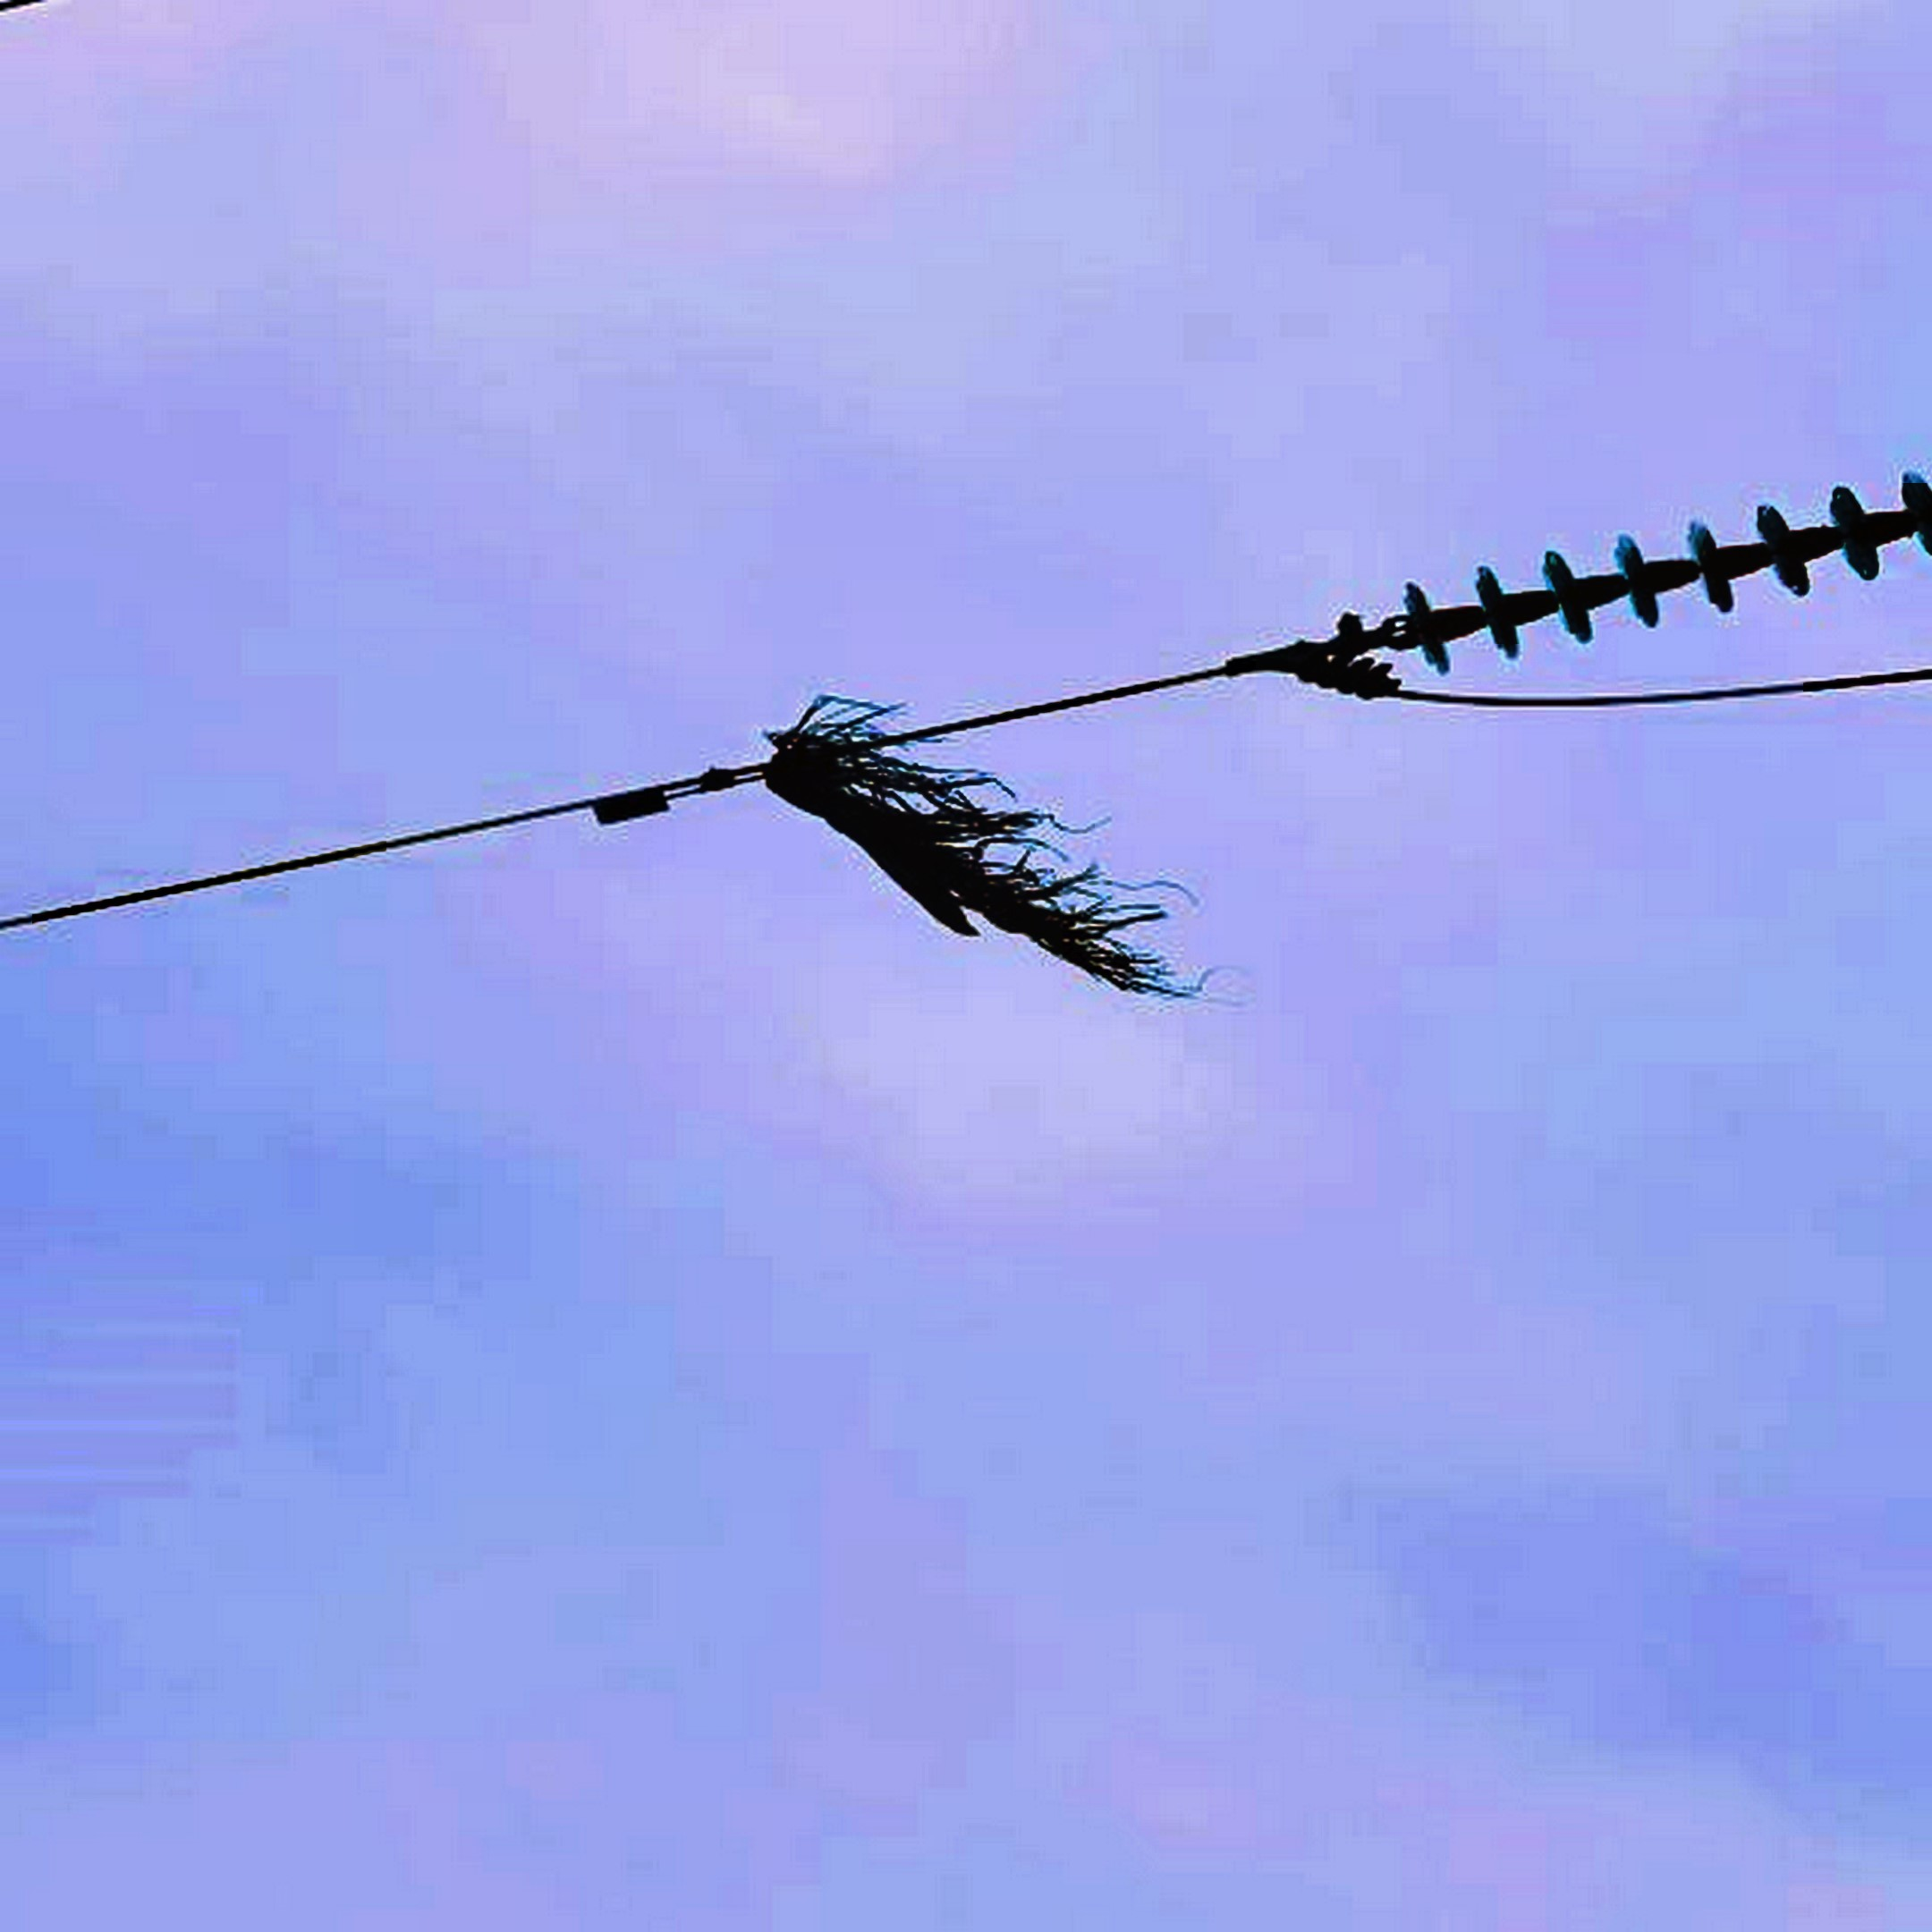wire foreign body: (736, 672, 1215, 1033)
